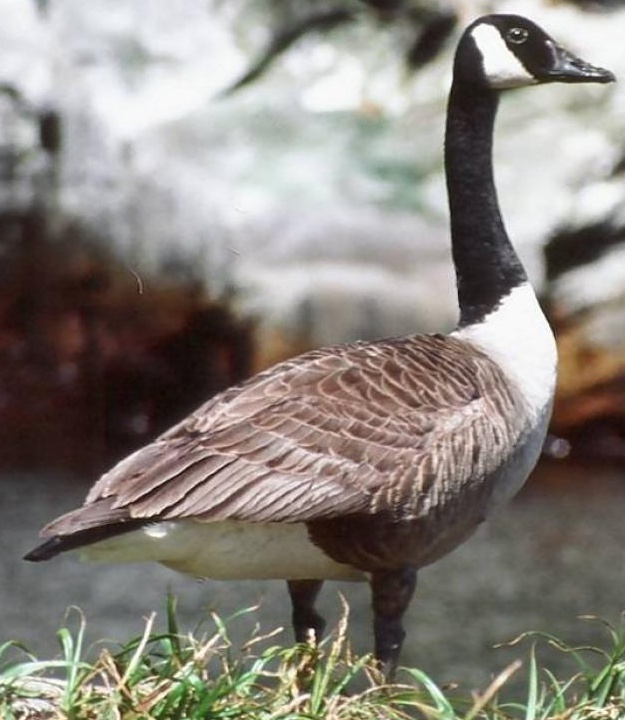goose: (1, 1, 625, 696)
